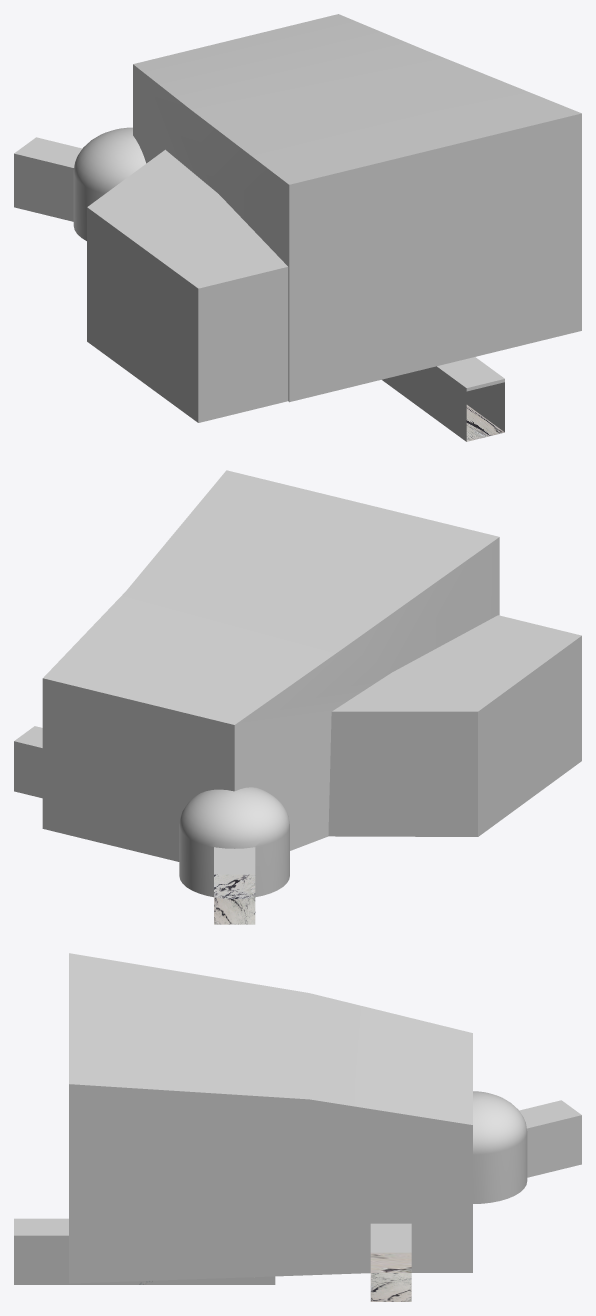
File: wideJunction 1.fbx
3 views of the same model, one above another, from view 1: azimuth 30°, elevation 25°; view 2: azimuth 150°, elevation 25°; view 3: azimuth 270°, elevation 25° (orthographic). The views are drawn at different scales.
Visible parts, largest first — view 1: pSphere7, pCube6; view 2: pSphere7; view 3: pSphere7, pCube6.
Part boxes in pixels (x1,y1,x2,y2): pSphere7: (14, 14, 581, 441); pCube6: (434, 357, 504, 391); pSphere7: (14, 470, 581, 924); pSphere7: (14, 953, 581, 1301); pCube6: (14, 1218, 68, 1236).
Bounding box in the file's own units: 65.88 × 40.34 × 83.47.
Materials: 2 (1 with a texture image).
